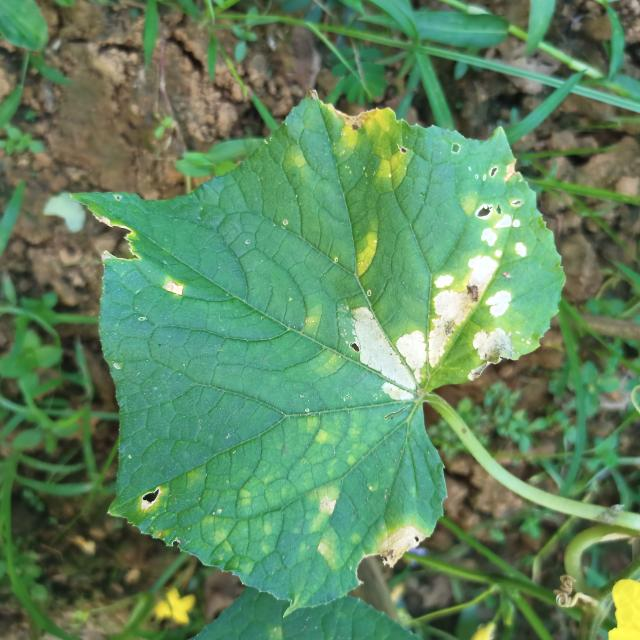disease_cucumber: (348, 198, 536, 407), (331, 101, 412, 197), (298, 486, 350, 569), (346, 221, 390, 280)
